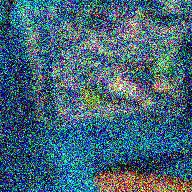러키펜정: (108, 78, 128, 94)
씨엠지세파클러캡슐: (131, 80, 172, 93)
에르도캡슐: (150, 48, 176, 80)
휴티렌정: (80, 88, 100, 111)
